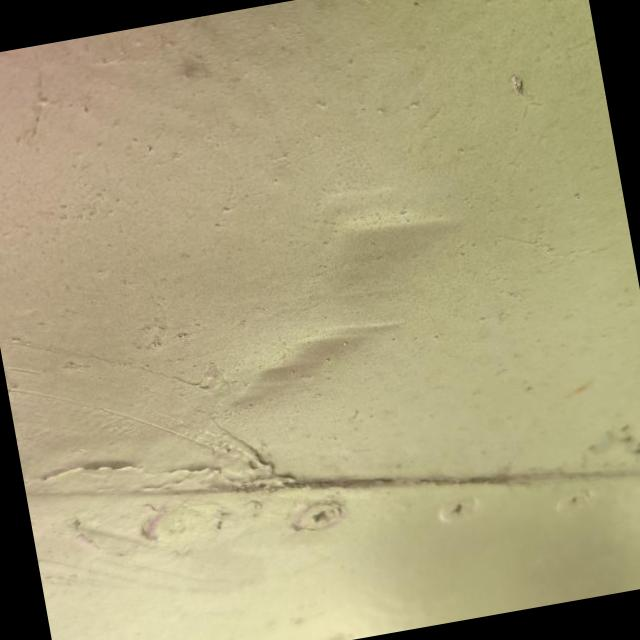Dent: (202, 168, 474, 439)
